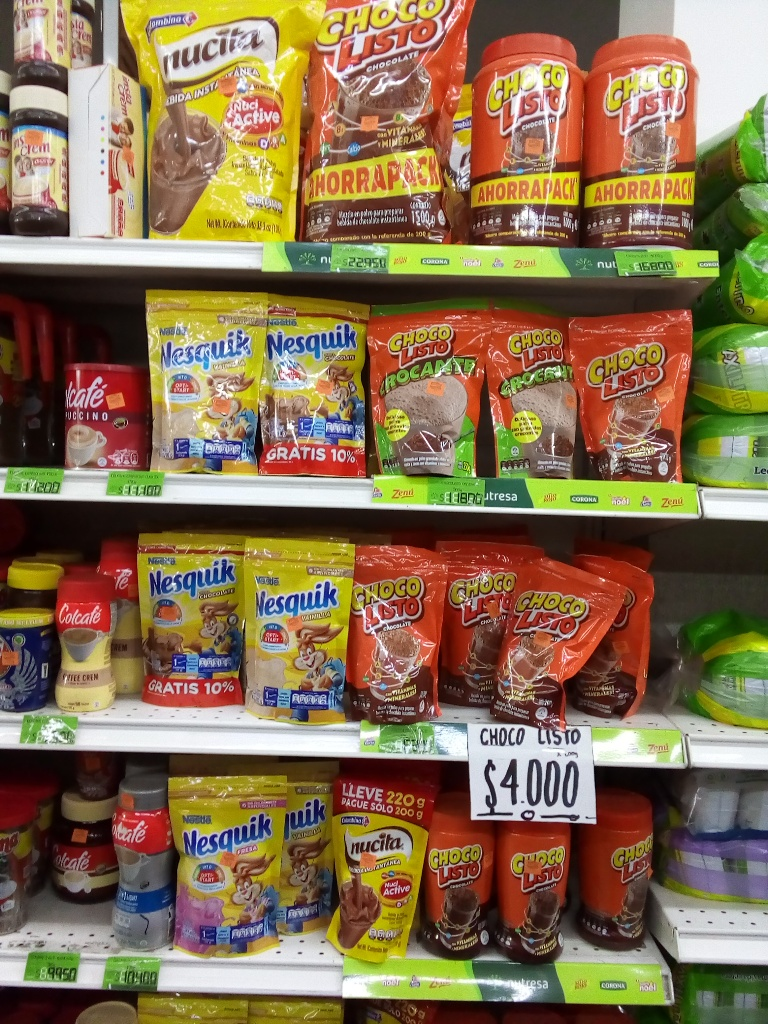COL0170102DYP25000: (482, 295, 581, 483)
COL0170103DYP1,500: (306, 3, 467, 245)
COL0170103TRR00100: (585, 29, 701, 252)
COL0170103TRR30000: (578, 786, 663, 958)
COL0170305DYP20000: (168, 773, 288, 958)
COL0170306DYP20000: (144, 287, 263, 476)
